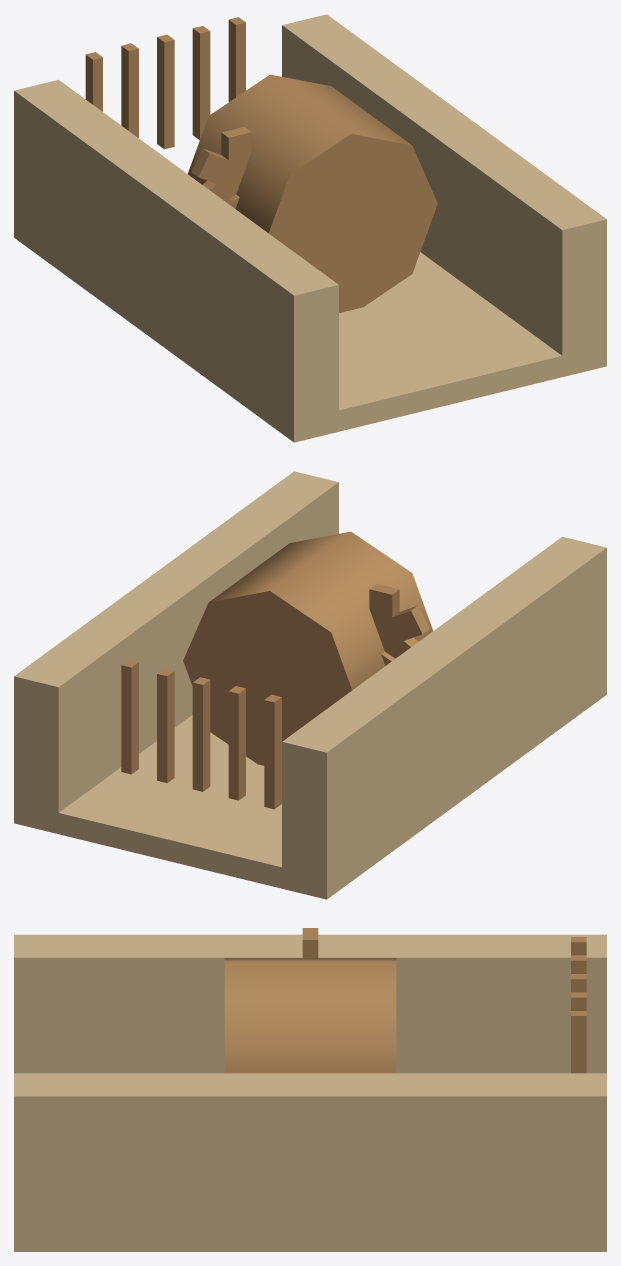
The model's file is HydroTurbine.glb.
3 views of the same model, one above another, from view 1: azimuth 30°, elevation 25°; view 2: azimuth 150°, elevation 25°; view 3: azimuth 270°, elevation 25° (orthographic). The views are drawn at different scales.
Parts seen in each view (by area): view 1: hand-pump-static-hydro-stone, hand-pump-static-hydro-housing, hand-pump-static-hydro-grate; view 2: hand-pump-static-hydro-stone, hand-pump-static-hydro-housing, hand-pump-static-hydro-grate; view 3: hand-pump-static-hydro-stone, hand-pump-static-hydro-housing, hand-pump-static-hydro-grate.
Boxes of the visible parts, bbox=[...] form: hand-pump-static-hydro-stone: bbox=[14, 14, 606, 442]; hand-pump-static-hydro-housing: bbox=[188, 74, 437, 312]; hand-pump-static-hydro-grate: bbox=[85, 17, 251, 201]; hand-pump-static-hydro-stone: bbox=[14, 471, 606, 899]; hand-pump-static-hydro-housing: bbox=[183, 531, 432, 765]; hand-pump-static-hydro-grate: bbox=[121, 584, 429, 809]; hand-pump-static-hydro-stone: bbox=[14, 934, 606, 1251]; hand-pump-static-hydro-housing: bbox=[224, 958, 396, 1073]; hand-pump-static-hydro-grate: bbox=[302, 928, 586, 1073].
Size of the model in its own units: 2.45 by 1.48 by 3.8.
